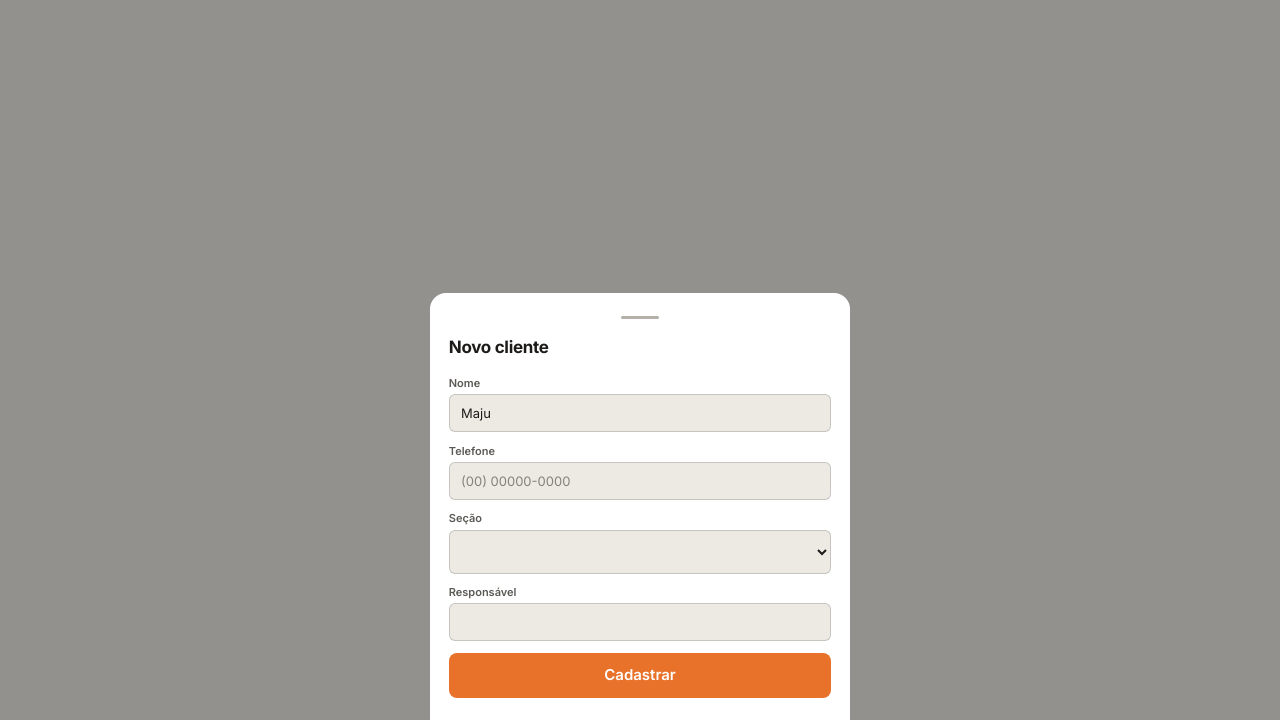
Test: QuickCustomerModal › mostra o erro devolvido pelo use case
What coordinates should you click on to do the following:
click the button "Cadastrar"
I would click on:
 (640, 675)
Its box is [449,652,831,698].
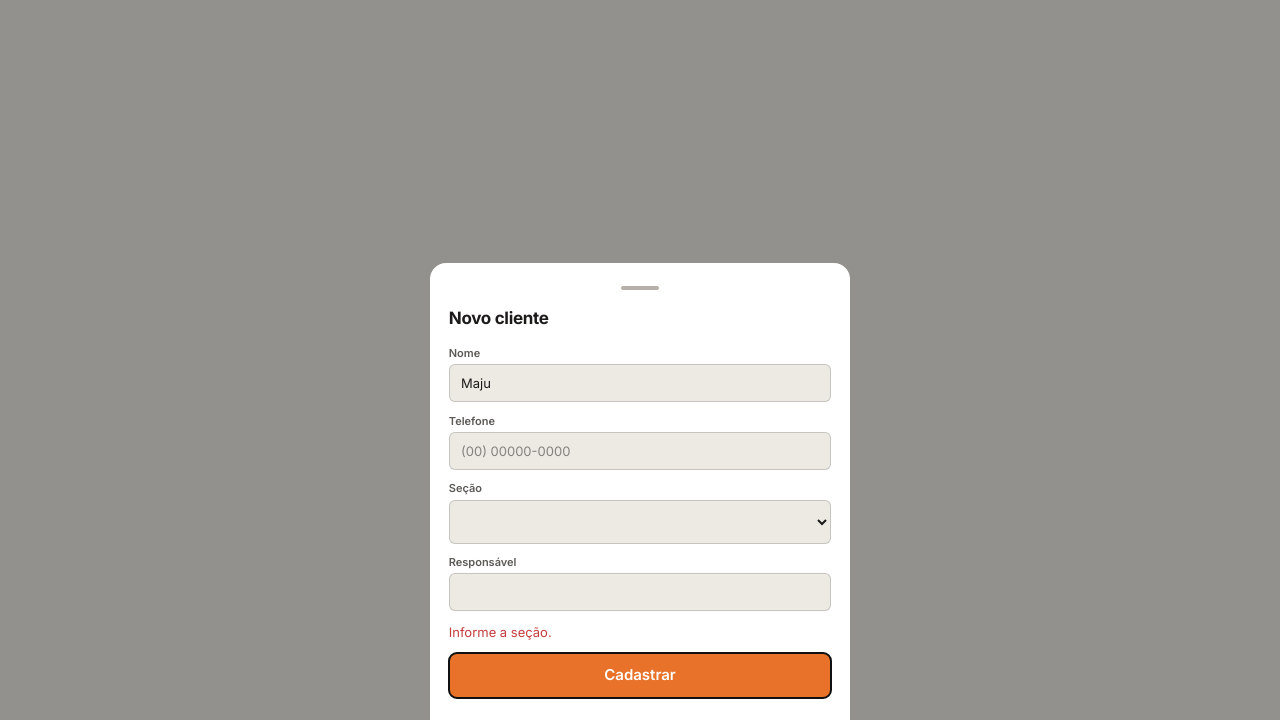
Now the text "Informe a seção." is shown, box [449,624,552,640]
